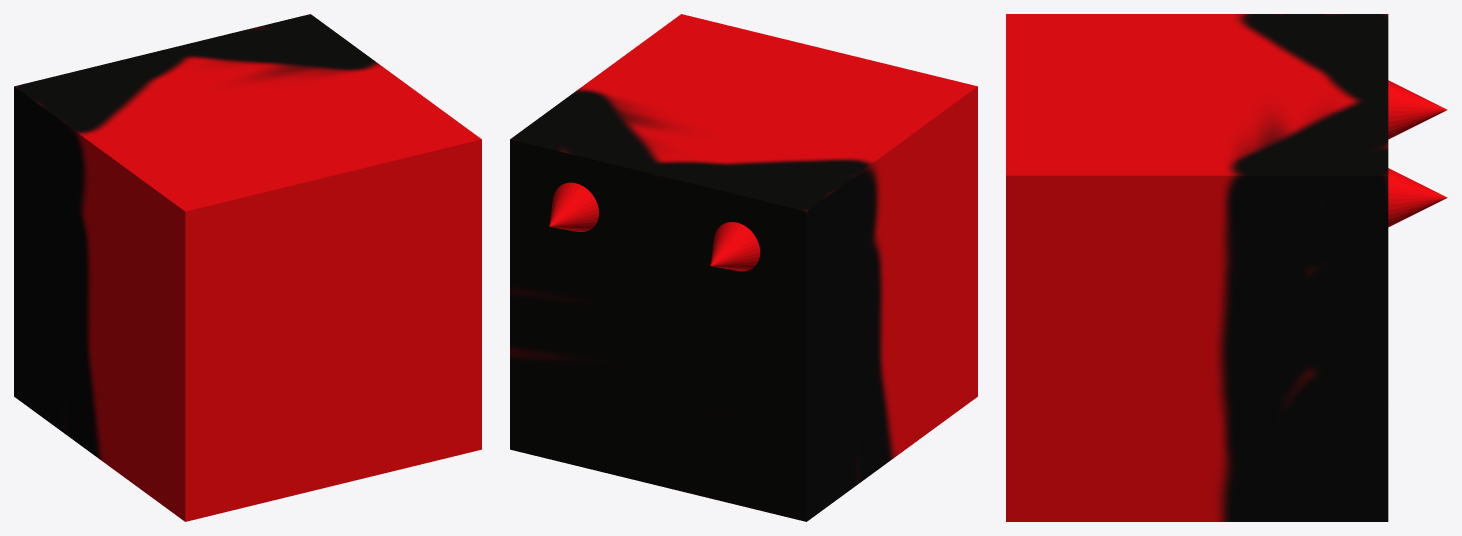
File: TheDevil.fbx
The picture shows the model from 3 angles, left to right: view 1: azimuth 30°, elevation 25°; view 2: azimuth 150°, elevation 25°; view 3: azimuth 270°, elevation 25°; orthographic projection. The views are drawn at different scales.
Parts seen in each view (by area): view 1: Cube; view 2: Cube, Cone.001, Cone; view 3: Cube, Cone, Cone.001.
Boxes of the visible parts, box(x1,y1,x2,y2) form: Cube: box(14, 14, 481, 521); Cube: box(510, 14, 977, 521); Cone.001: box(549, 182, 598, 232); Cone: box(710, 222, 760, 271); Cube: box(1006, 14, 1388, 521); Cone: box(1388, 80, 1447, 139); Cone.001: box(1388, 168, 1447, 227).
Bounding box in the file's own units: 200 × 200 × 231.
1 material, 1 textured.
